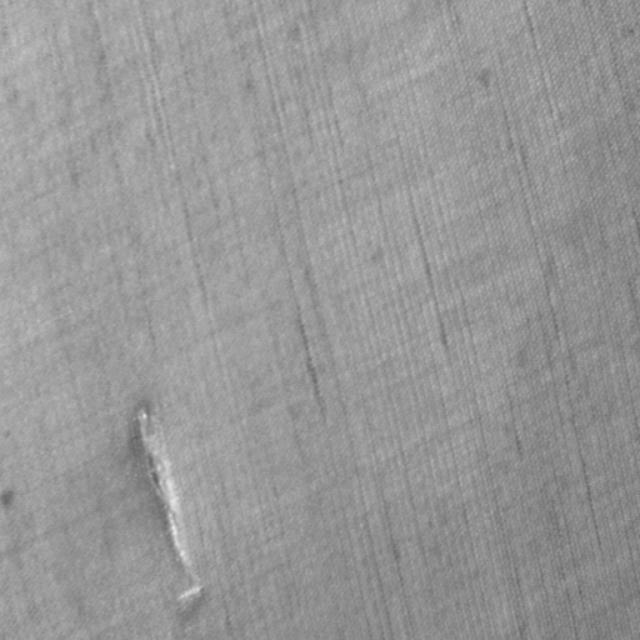hole: (128, 402, 208, 608)
